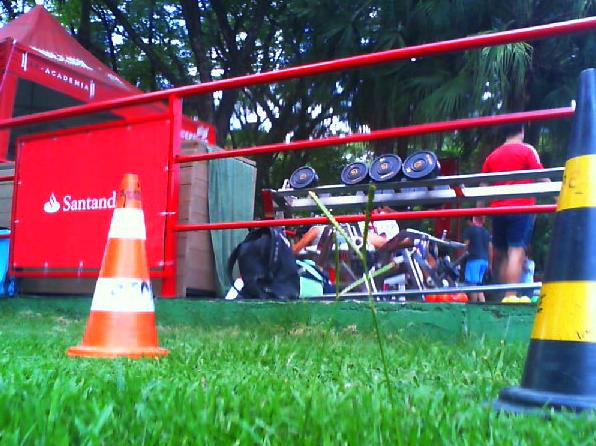0 cone: (487, 69, 596, 421), (67, 175, 169, 359)
